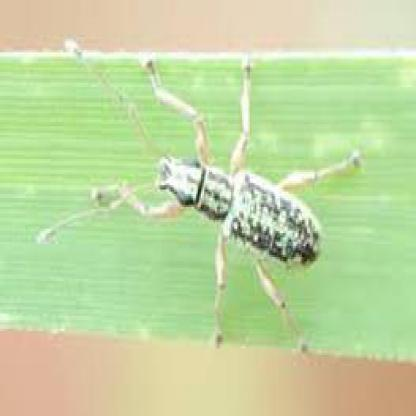ash weevil: (66, 43, 363, 355)
